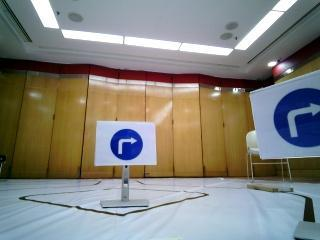right: (253, 92, 320, 158), (98, 119, 156, 163)
